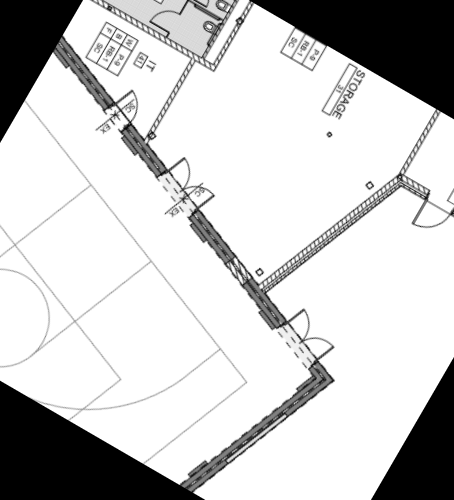door: (408, 195, 454, 242), (107, 83, 149, 127), (147, 1, 184, 37), (186, 0, 218, 9)
double door: (272, 300, 346, 367), (157, 151, 226, 215)
wall: (254, 138, 403, 323), (83, 0, 221, 77), (141, 48, 203, 146), (207, 1, 256, 76), (398, 109, 443, 177), (199, 0, 243, 60), (394, 169, 434, 199), (447, 201, 454, 234)
window: (210, 390, 299, 486)
